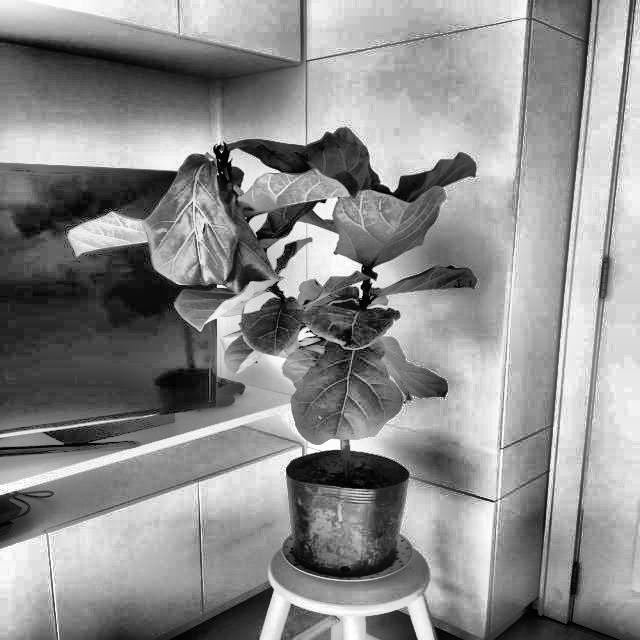plants: (177, 127, 480, 568)
